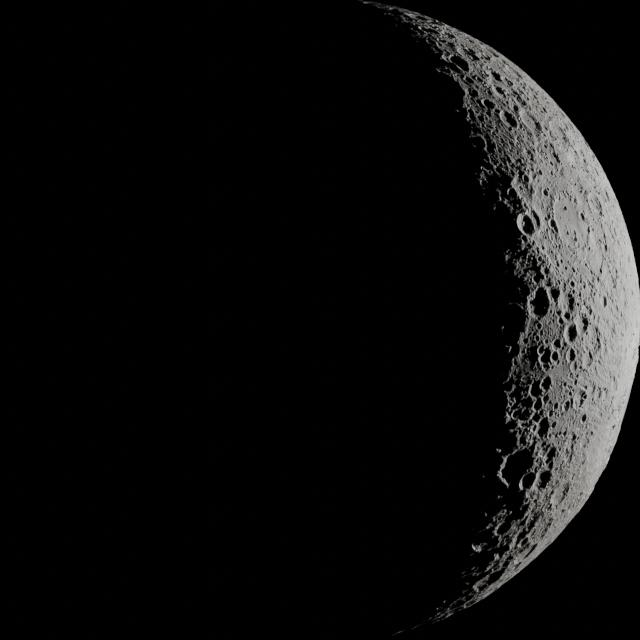crater: (497, 444, 541, 494), (524, 285, 552, 324), (449, 53, 473, 81), (514, 213, 538, 239), (554, 291, 578, 316), (564, 324, 582, 348), (497, 111, 518, 131), (402, 11, 433, 23), (539, 468, 554, 492), (518, 471, 536, 490), (480, 94, 496, 114), (538, 418, 552, 439), (438, 30, 458, 43), (540, 378, 555, 394), (564, 349, 577, 364), (548, 353, 561, 364)
